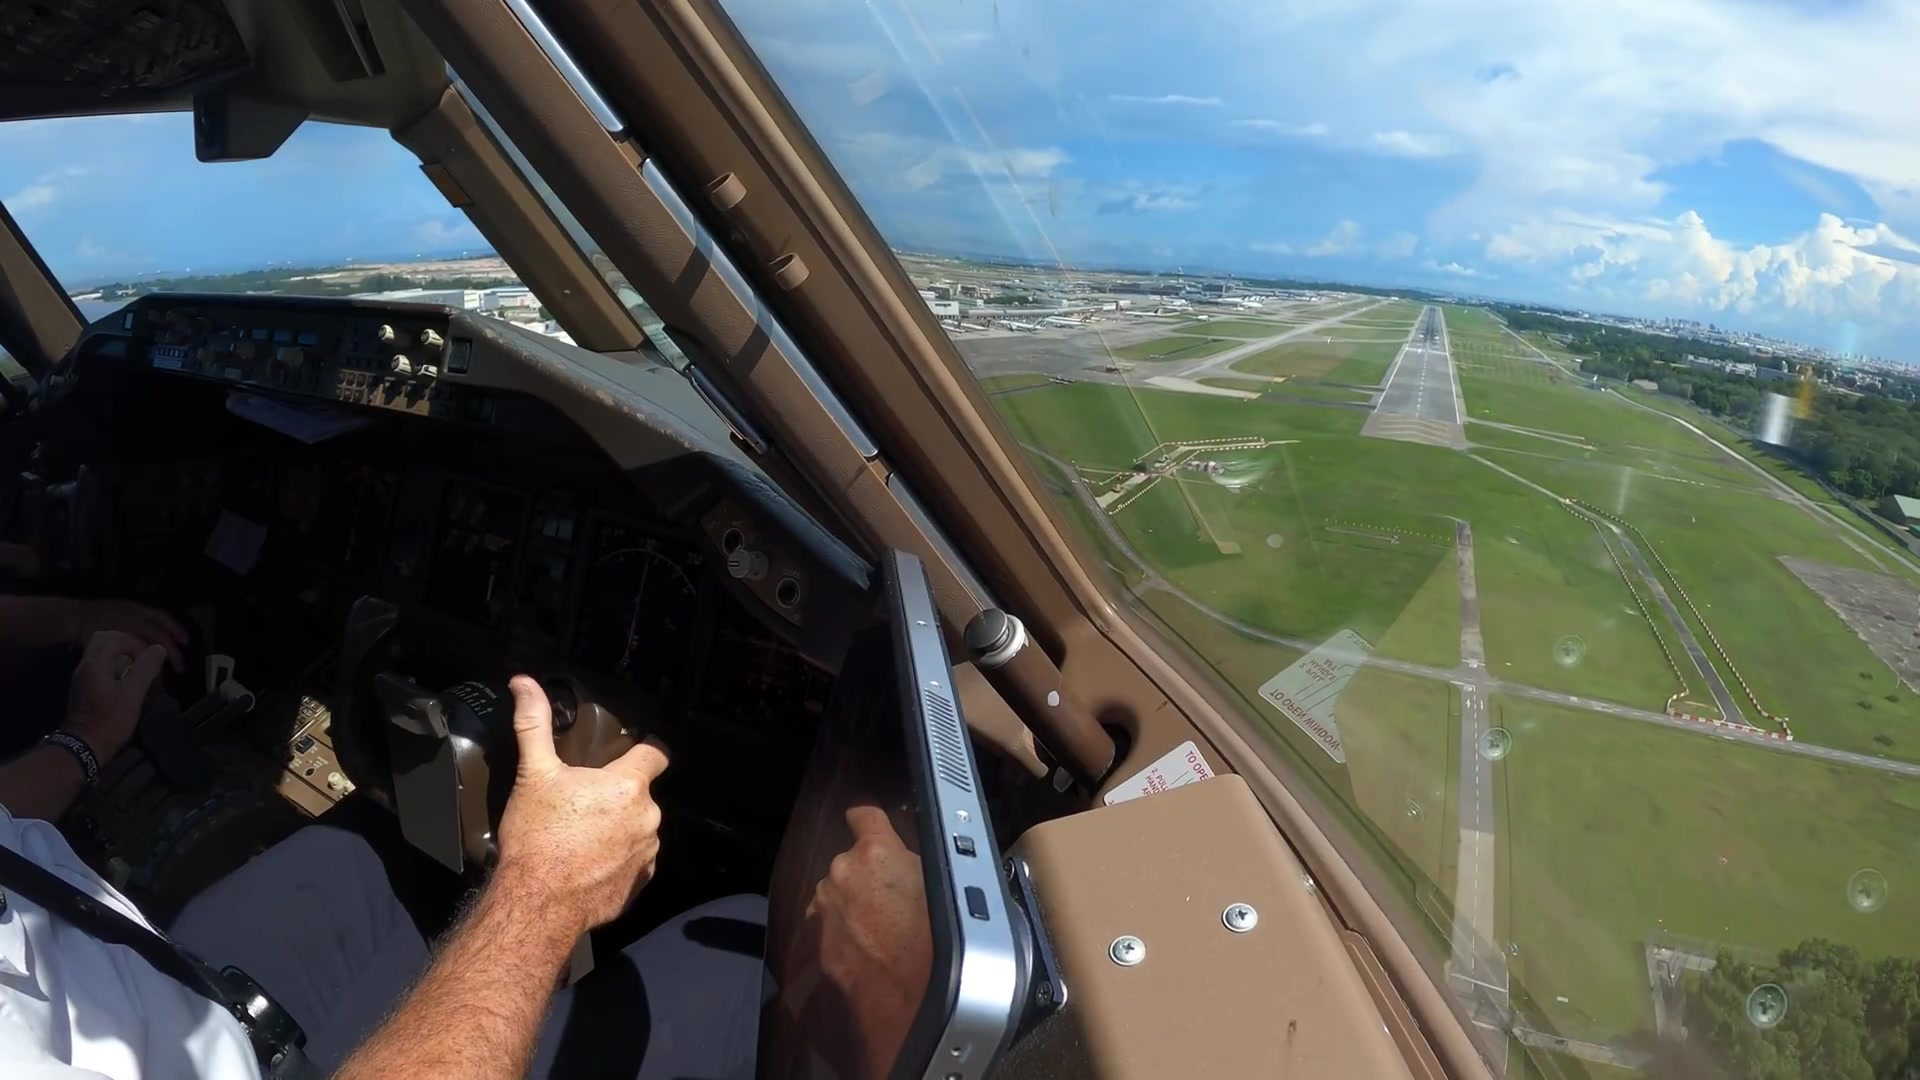entrance: (1403, 343, 1451, 356)
runway: (1365, 298, 1468, 451)
